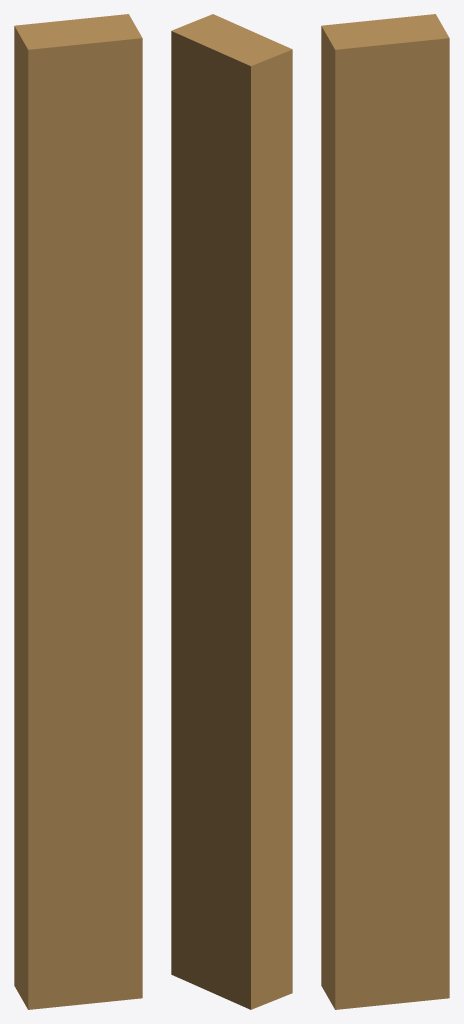
The picture shows the model from 3 angles, left to right: view 1: azimuth 90°, elevation 25°; view 2: azimuth 210°, elevation 25°; view 3: azimuth 270°, elevation 25°; orthographic projection.
Parts seen in each view (by area): view 1: GAP-11-R-jack_stud-p1; view 2: GAP-11-R-jack_stud-p1; view 3: GAP-11-R-jack_stud-p1.
Part boxes in pixels (x1,y1,x2,y2): GAP-11-R-jack_stud-p1: (14,14,142,1009); GAP-11-R-jack_stud-p1: (171,14,292,1009); GAP-11-R-jack_stud-p1: (321,14,449,1009).
Size of the model in its own units: 0.0649 by 0.81 by 0.0981.
